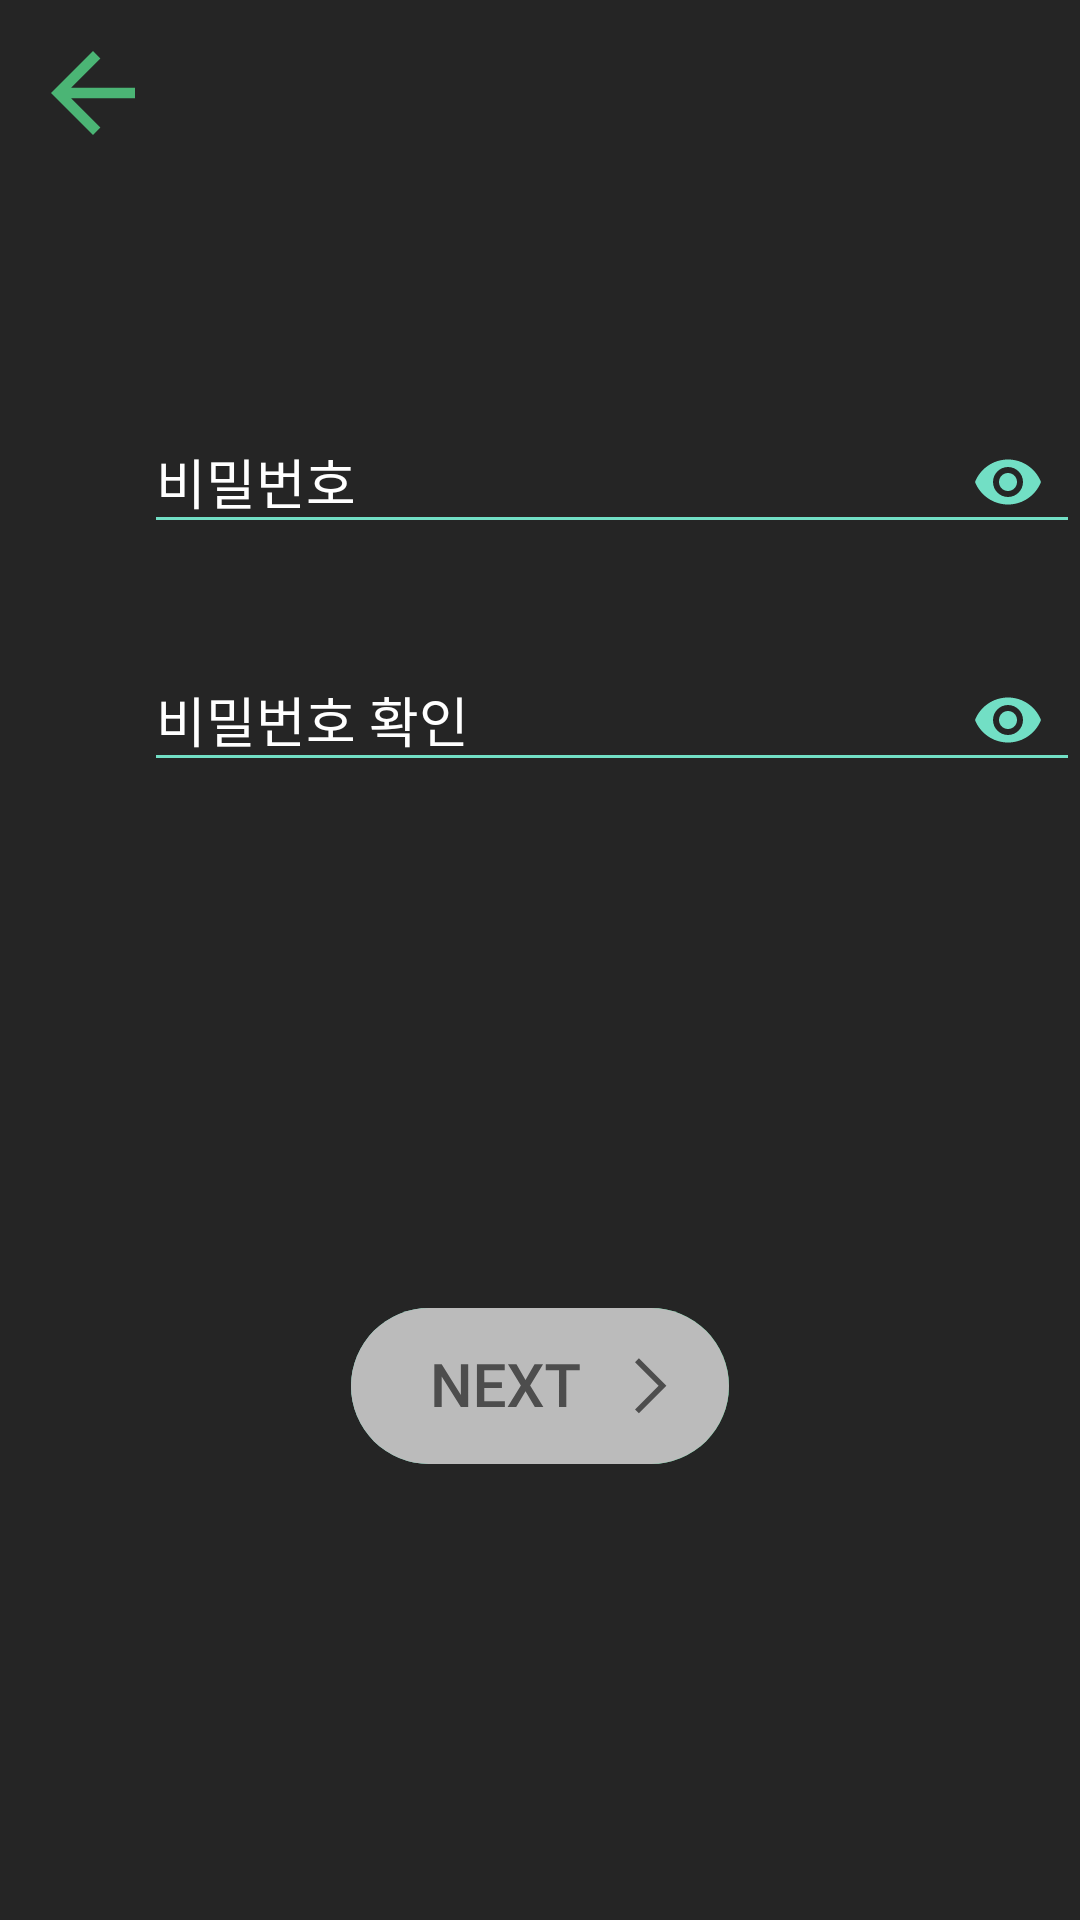

Locate icon controls on the screen. Image size 1080px x 1920px, boxes as (x1, y1, x2, y2).
back step arrow: (51, 51, 135, 135)
